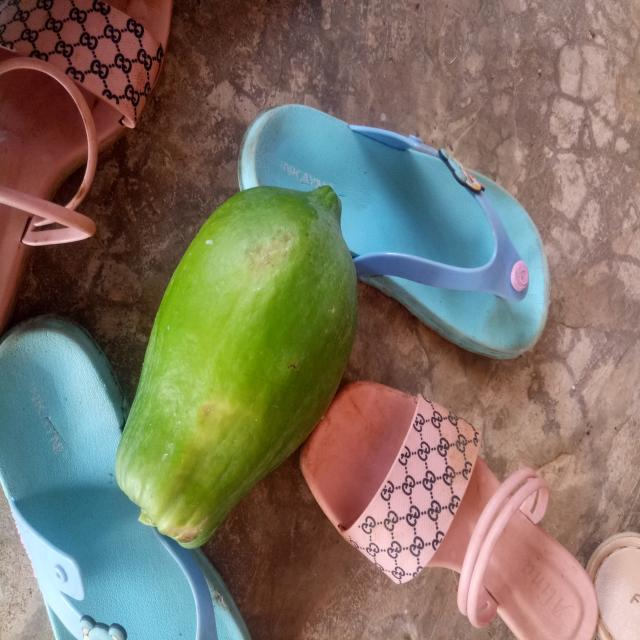Pepaya unrippen: (113, 178, 359, 549)
